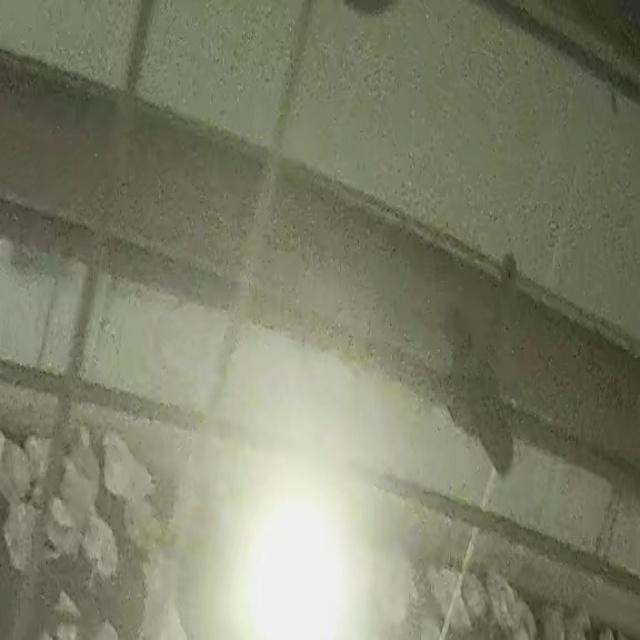chicken: (101, 432, 157, 504), (82, 512, 120, 590), (46, 490, 81, 564), (462, 569, 492, 625)
